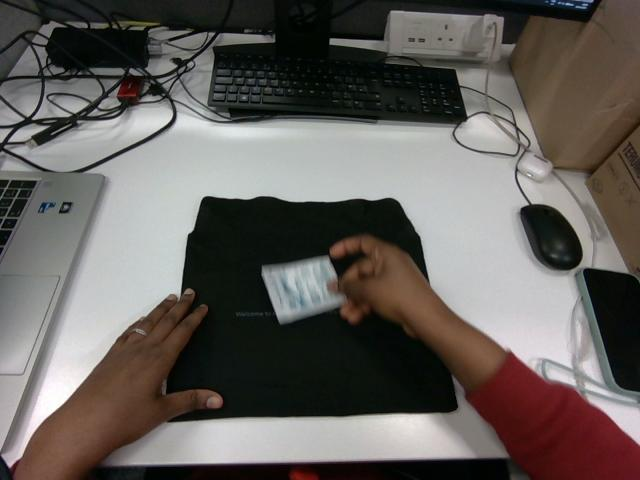gauze: (261, 256, 345, 324)
